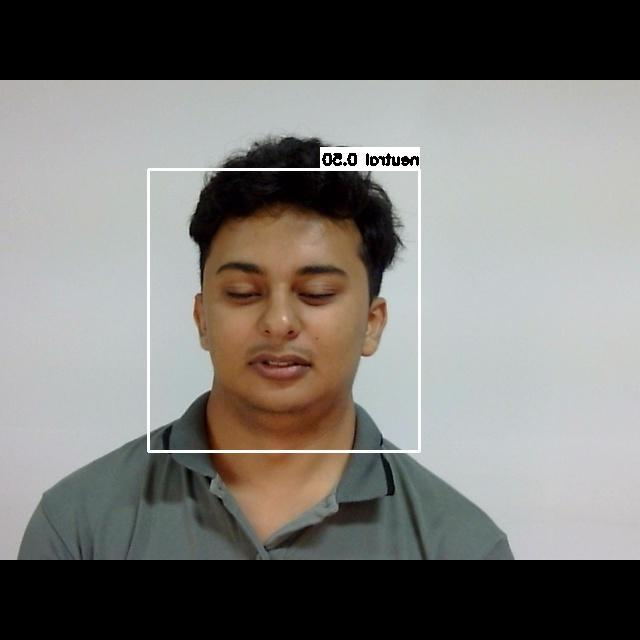Sad: (204, 241, 369, 387)
